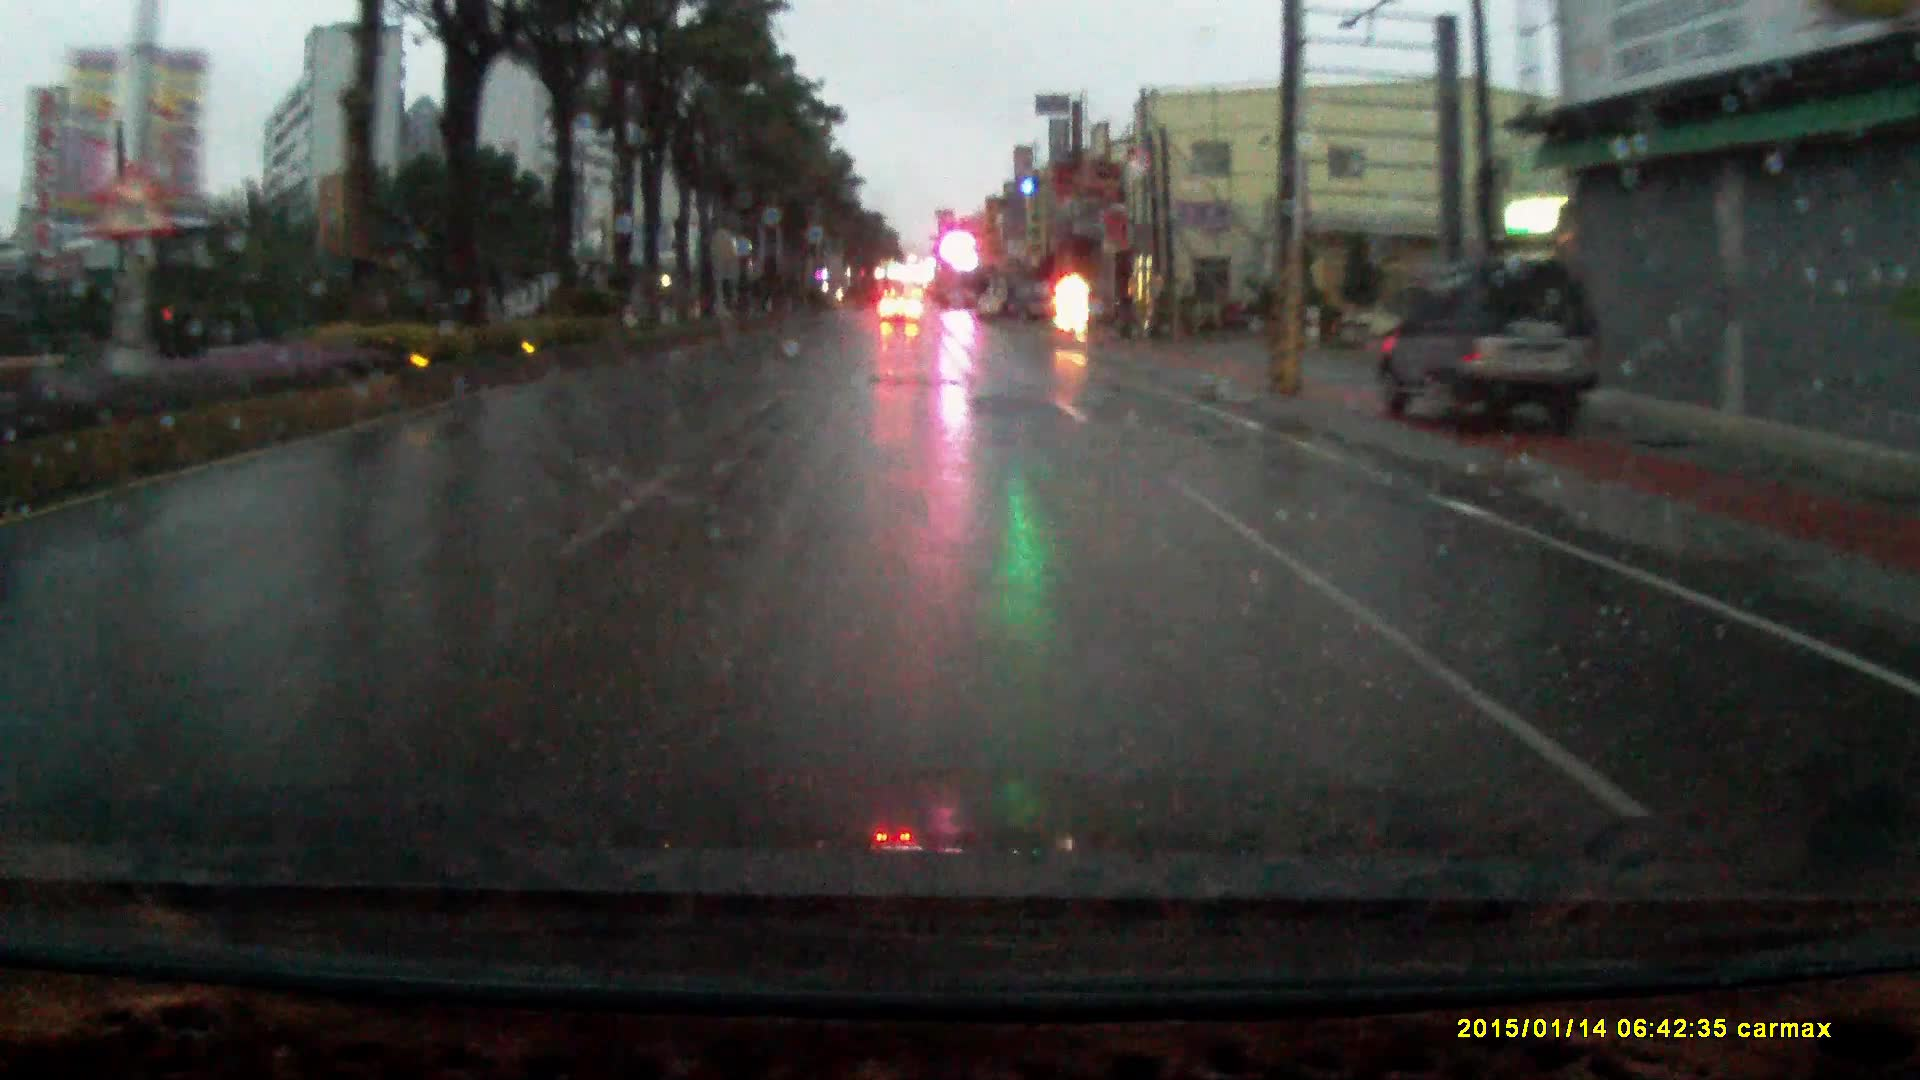vehicle: (1379, 257, 1606, 438), (1006, 293, 1063, 331), (878, 293, 922, 326)
